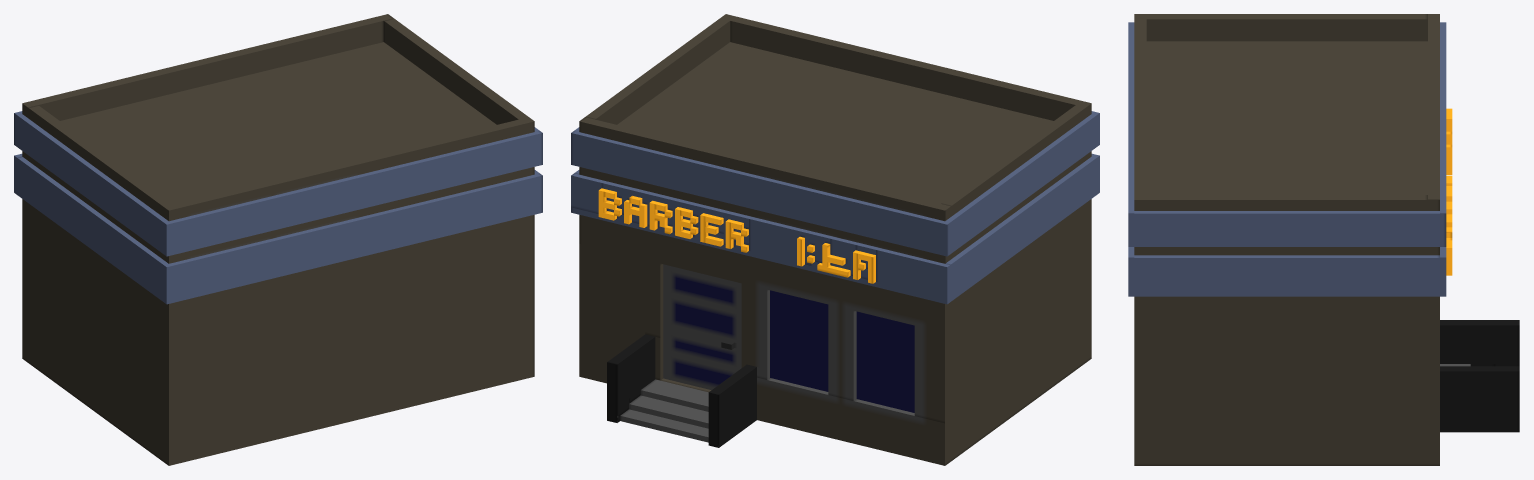
The model's file is barber_budynek.dae.
3 views of the same model, side by side, from view 1: azimuth 30°, elevation 25°; view 2: azimuth 150°, elevation 25°; view 3: azimuth 270°, elevation 25° (orthographic). The views are drawn at different scales.
Parts seen in each view (by area): view 1: Content; view 2: Content; view 3: Content.
Boxes of the visible parts, x1,y1,x2,y2 form: Content: [14, 14, 542, 465]; Content: [571, 14, 1099, 465]; Content: [1128, 14, 1519, 465].
Size of the model in its own units: 74 by 48 by 64.
1 material, 1 textured.
